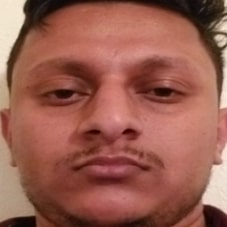drowsy: (28, 46, 208, 207)
